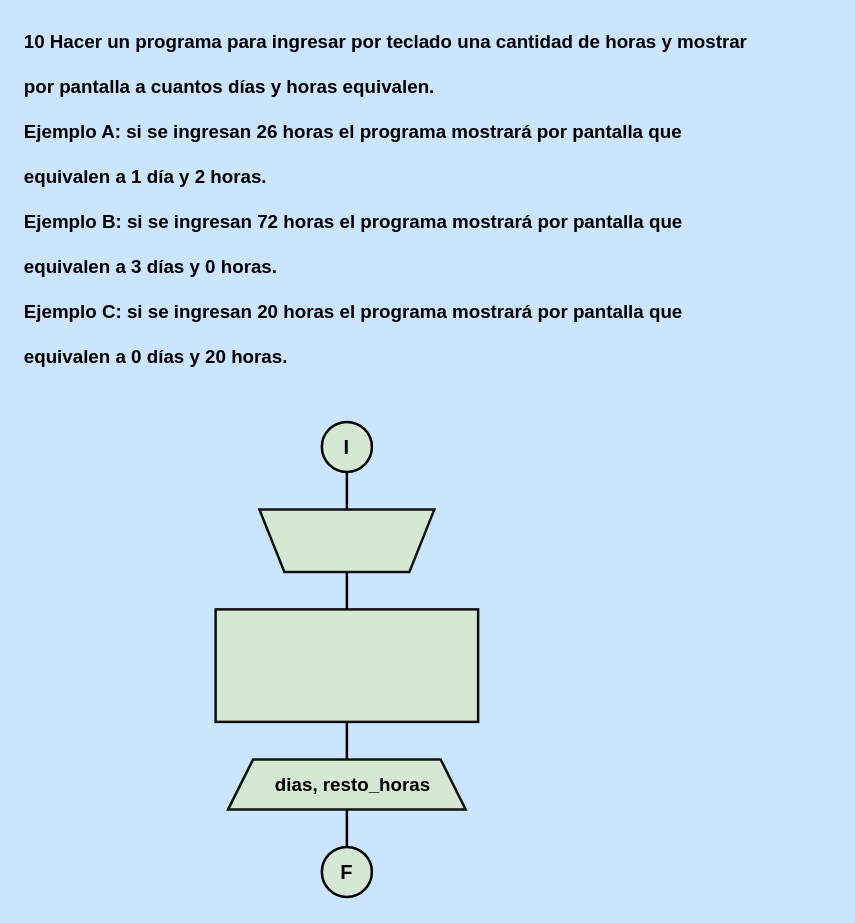
Image size: 855x923. Some labels were removed from this diagram. The centre of each missing label's shape, as x and y in pixels:
"dias = horas / 24 resto_horas = horas % 24" belongs at point 346,665.
"horas" belongs at point 346,540.
